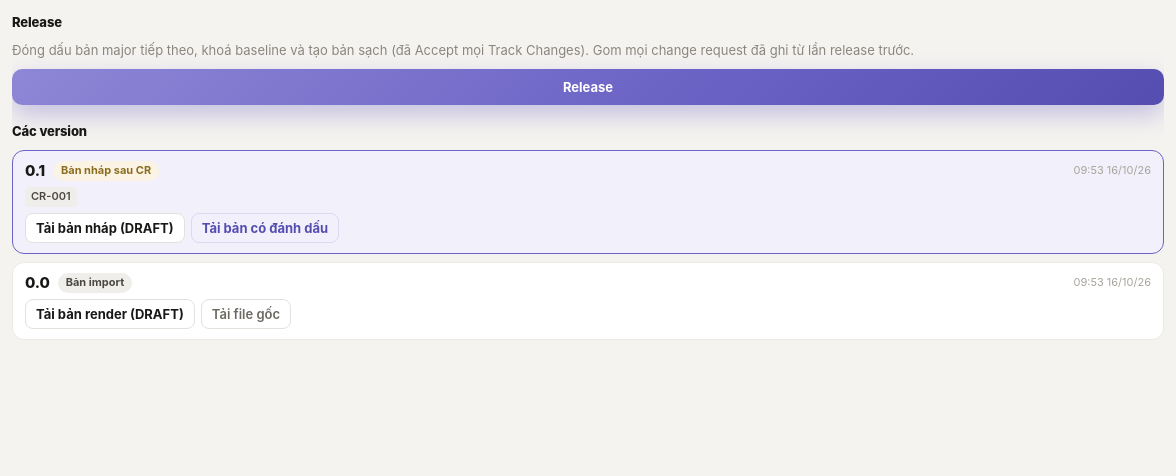
Test case: VersionsPanel — version & release (Flow 6, UC-57) › BE vẫn chặn (422 RELEASE_RED_FLAGS_OPEN) ⇒ hiện danh sách cờ chặn
Step 1. Click the button "Release" → {"x": 588, "y": 87}, box x1=12 y1=69 x2=1164 y2=105
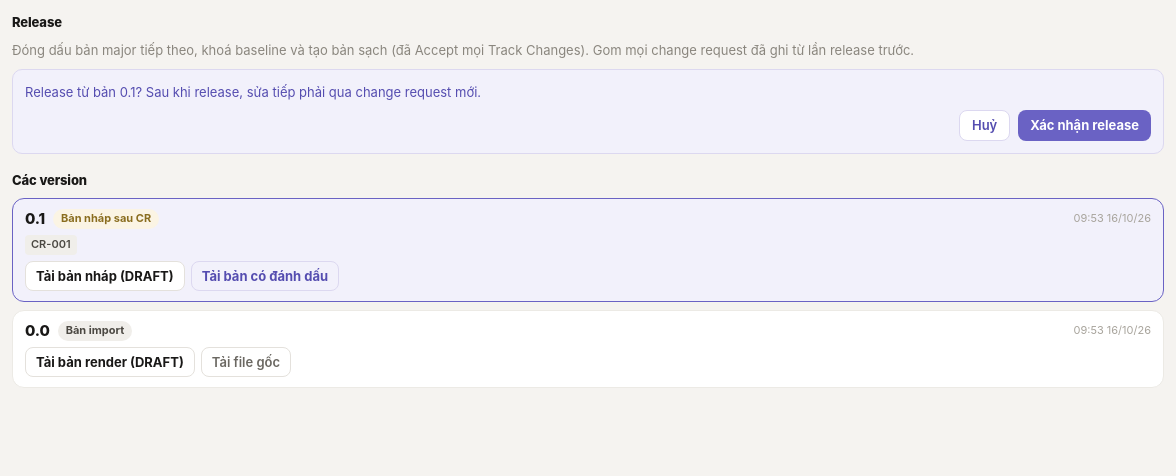
Step 2. Click the button "Xác nhận release" → {"x": 1085, "y": 125}, box x1=1018 y1=110 x2=1151 y2=140
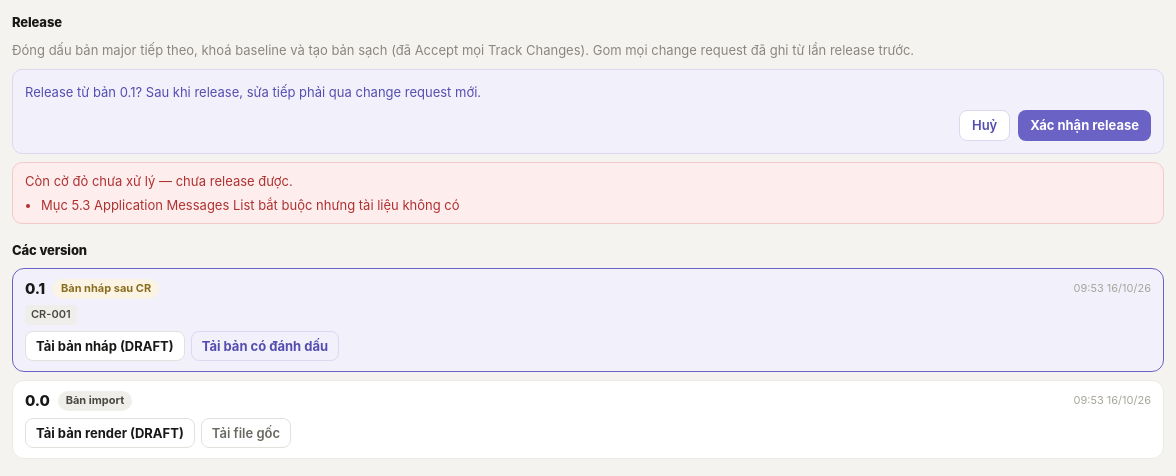
Now the message shows "Mục 5.3 Application Messages List", box x1=41 y1=197 x2=460 y2=213
